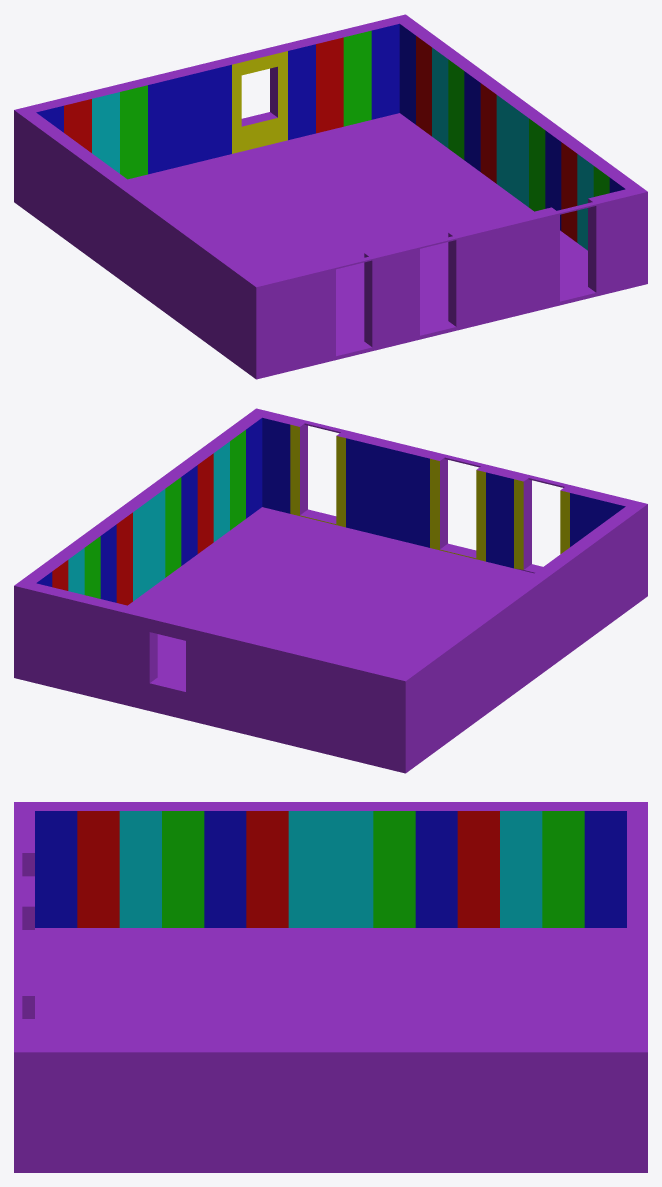
The model's file is murs_tuto.fbx.
3 renders of one model, top to bottom at view 1: azimuth 30°, elevation 25°; view 2: azimuth 150°, elevation 25°; view 3: azimuth 270°, elevation 25°, orthographic. The views are drawn at different scales.
Visible parts, largest first — view 1: sol_murs; view 2: sol_murs; view 3: sol_murs.
Boxes of the visible parts, x1,y1,x2,y2 form: sol_murs: (14,14,647,379); sol_murs: (14,408,647,773); sol_murs: (14,802,647,1172).
Size of the model in its own units: 551 by 124 by 591.
